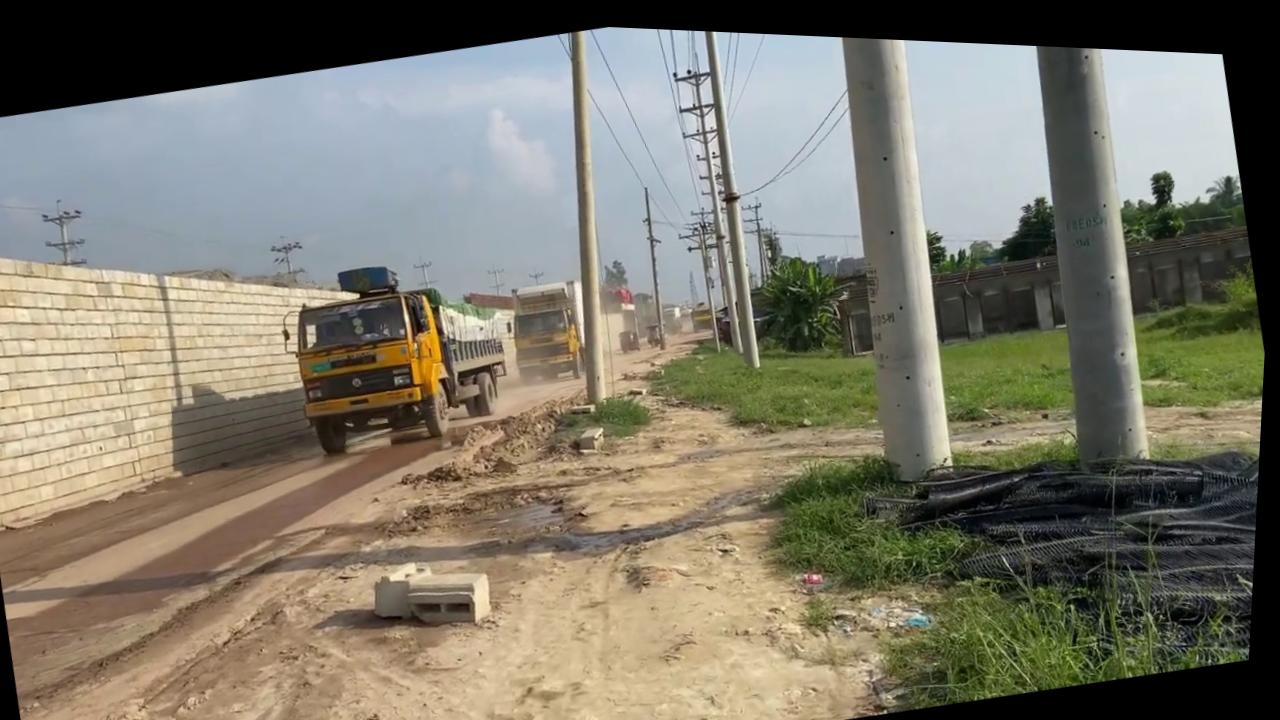Garbage: (853, 390, 1265, 713)
Muddy road: (0, 187, 1272, 720)
Obstacle: (369, 541, 504, 638), (370, 551, 446, 621), (578, 417, 611, 448)
Pole: (797, 28, 987, 479), (987, 35, 1181, 461), (520, 23, 655, 403), (667, 24, 800, 366), (679, 24, 780, 363)
Traffic-sign: (743, 235, 861, 355), (992, 181, 1063, 255), (1146, 155, 1180, 197)
Tree: (269, 234, 527, 463), (502, 269, 596, 384), (614, 296, 646, 348), (690, 294, 717, 326)
